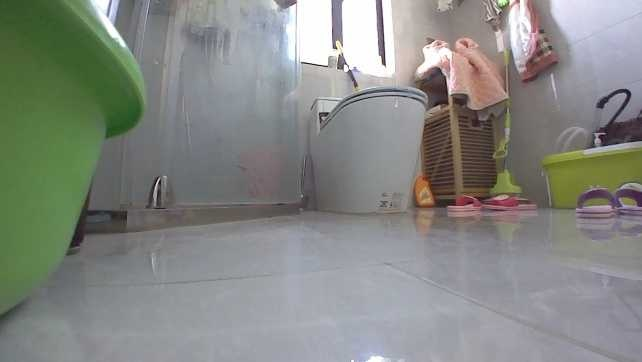shoe: (477, 191, 537, 211)
toilet: (305, 80, 430, 215)
